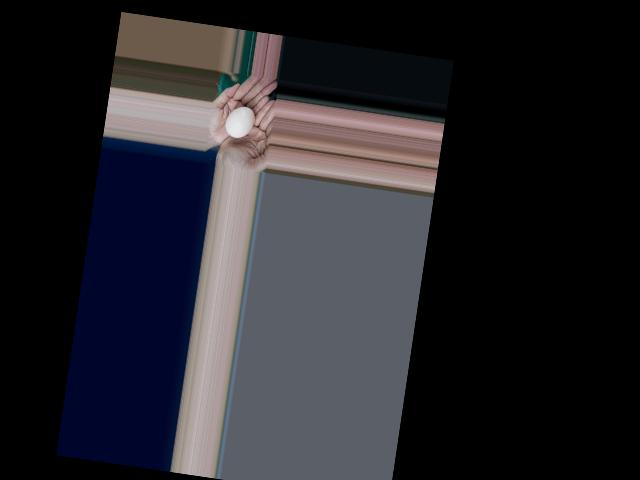egg: (224, 104, 256, 139)
